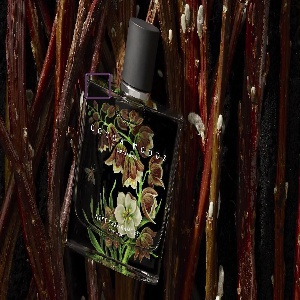square: (82, 70, 115, 101)
